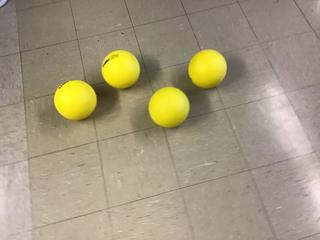power_cell: (52, 78, 100, 122), (147, 86, 193, 128), (188, 47, 230, 93), (100, 50, 141, 87)
